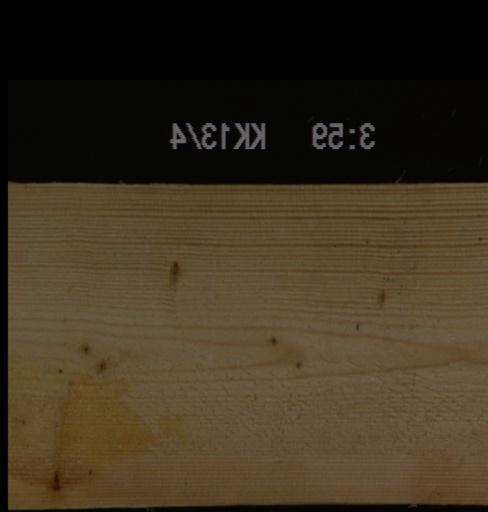small_knot: (164, 257, 182, 295), (375, 285, 388, 308), (267, 333, 279, 347)
